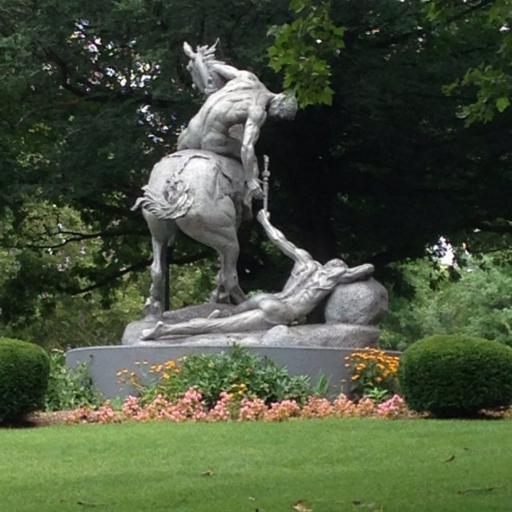horse: (132, 38, 246, 316)
